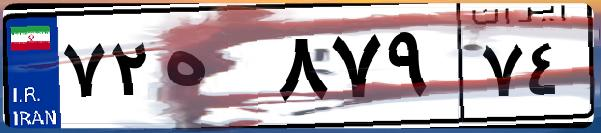2: (110, 28, 158, 98)
4: (525, 38, 570, 115)
7: (330, 28, 385, 110), (57, 26, 110, 100), (475, 38, 525, 113)
8: (270, 28, 330, 110)
9: (385, 28, 445, 110)
ه: (158, 20, 270, 120)
